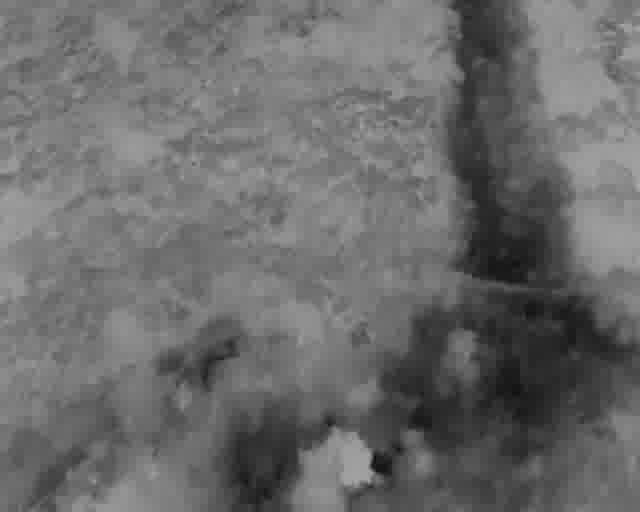car: (316, 115, 323, 121), (319, 110, 327, 115), (299, 176, 304, 183)
person: (305, 173, 308, 179), (316, 119, 318, 123), (317, 120, 319, 123)
